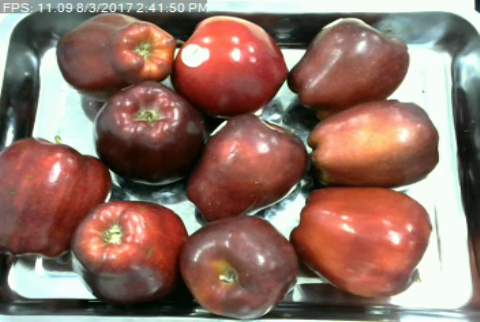Apple: (289, 184, 434, 299), (0, 134, 115, 263), (185, 111, 312, 222), (68, 196, 190, 308), (178, 212, 301, 322), (169, 12, 291, 120), (287, 15, 411, 119), (93, 76, 209, 186), (305, 98, 441, 189), (54, 9, 179, 101)
